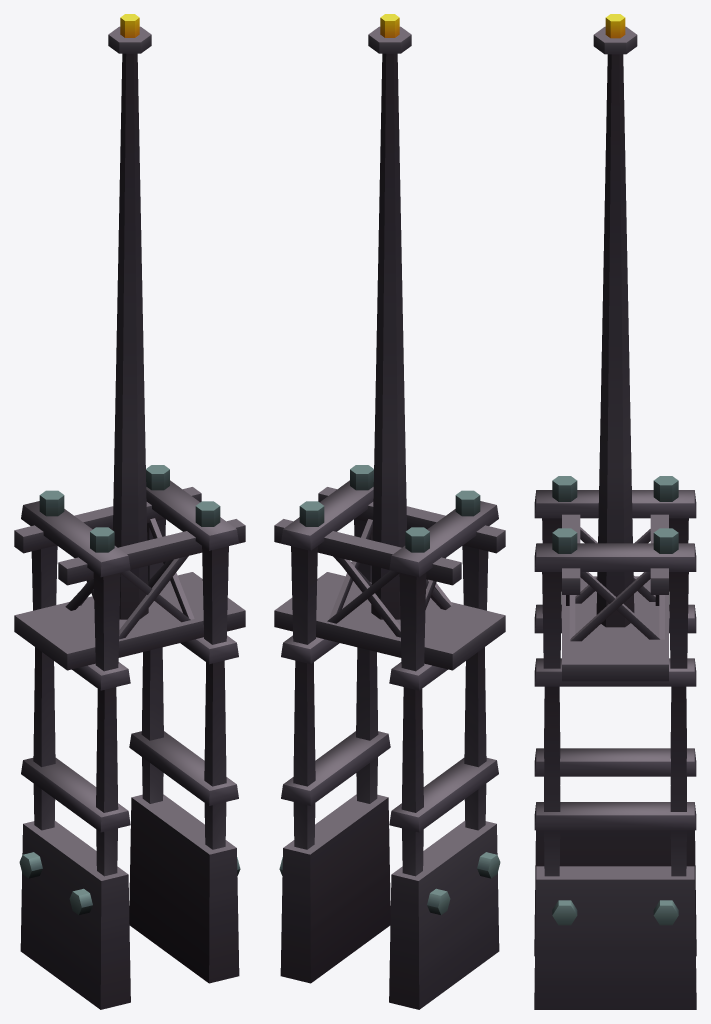
The model's file is Antenna_1A.fbx.
The picture shows the model from 3 angles, left to right: view 1: azimuth 30°, elevation 25°; view 2: azimuth 150°, elevation 25°; view 3: azimuth 270°, elevation 25°; orthographic projection.
Visible parts, largest first — view 1: Antenna_1A; view 2: Antenna_1A; view 3: Antenna_1A.
Boxes of the visible parts, x1,y1,x2,y2 form: Antenna_1A: (14,14,245,1009); Antenna_1A: (274,14,505,1009); Antenna_1A: (534,14,696,1009).
Bounding box in the file's own units: 329 × 1669 × 256.
